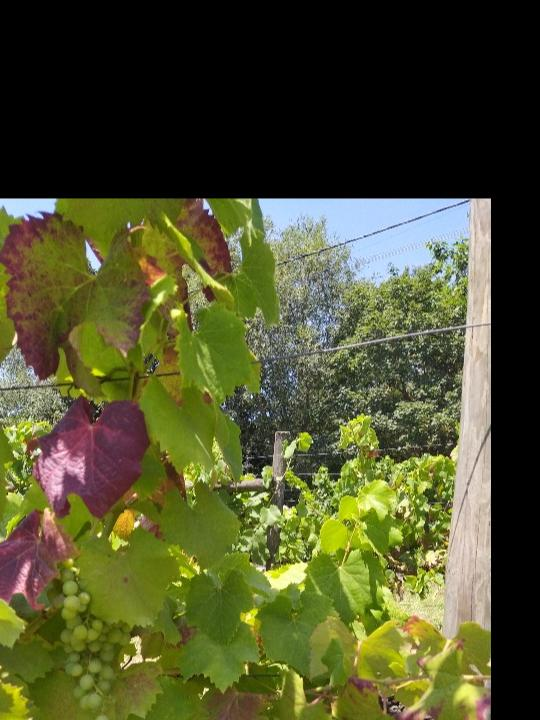grape: (46, 558, 138, 720)
